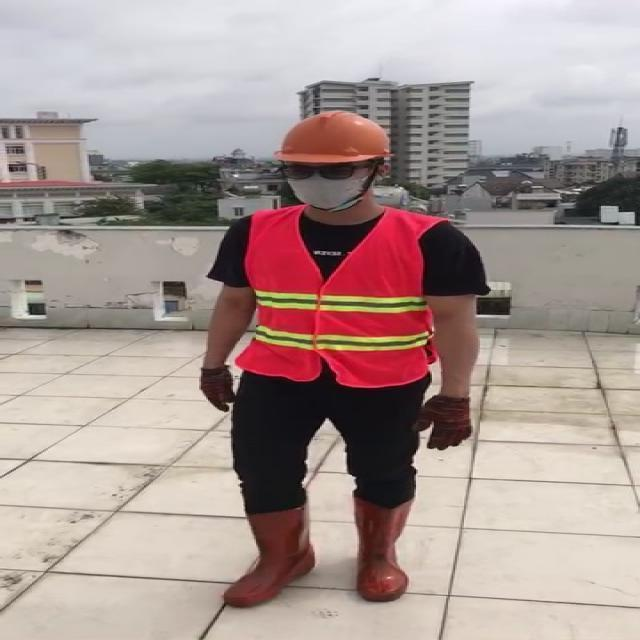gloves: (410, 392, 472, 451), (199, 365, 236, 413)
goggles: (271, 158, 384, 181)
helmet: (272, 107, 404, 167)
safety_vest: (243, 208, 449, 381)
